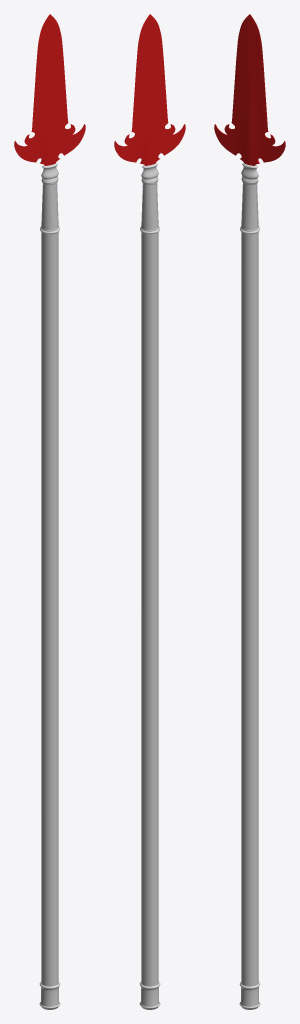
File: partisan.fbx
The picture shows the model from 3 angles, left to right: view 1: azimuth 30°, elevation 25°; view 2: azimuth 210°, elevation 25°; view 3: azimuth 330°, elevation 25°; orthographic projection.
Visible parts, largest first — view 1: partisan; view 2: partisan; view 3: partisan.
Part boxes in pixels (bbox=[...]): partisan: bbox=[14, 14, 85, 1009]; partisan: bbox=[114, 14, 185, 1009]; partisan: bbox=[214, 14, 285, 1009].
Bounding box in the file's own units: 0.1601 × 2.14 × 0.0406.
